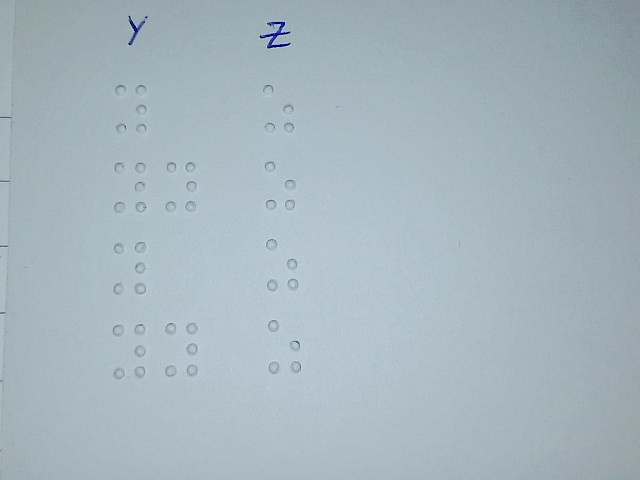Y: (163, 319, 199, 378), (111, 320, 147, 379), (112, 238, 148, 297), (114, 81, 149, 135), (164, 159, 199, 213)
Z: (267, 318, 303, 373), (264, 237, 299, 291), (262, 82, 296, 134), (263, 159, 297, 211)
